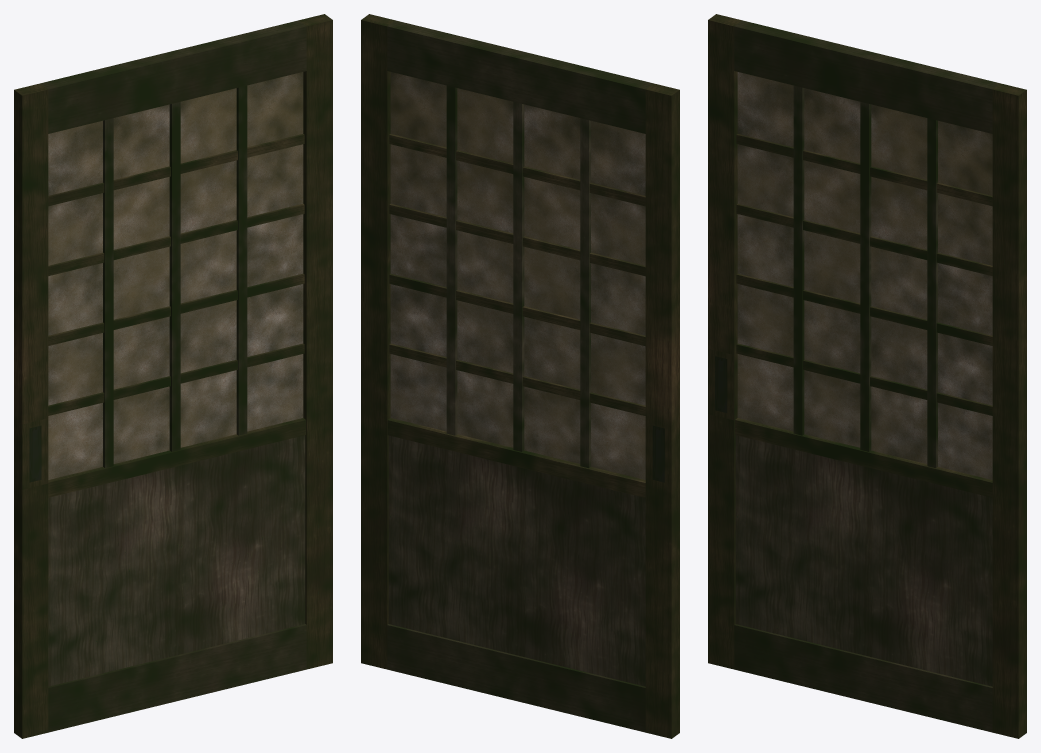
File: shrine_door_01.fbx
3 renders of one model, left to right at view 1: azimuth 30°, elevation 25°; view 2: azimuth 150°, elevation 25°; view 3: azimuth 330°, elevation 25°, orthographic.
Parts seen in each view (by area): view 1: shrine_door_01; view 2: shrine_door_01; view 3: shrine_door_01.
Boxes of the visible parts, box(x1,y1,x2,y2) form: shrine_door_01: box(14, 14, 332, 738); shrine_door_01: box(361, 14, 679, 738); shrine_door_01: box(708, 14, 1026, 738).
Bounding box in the file's own units: 143 × 284 × 6.59.
Materials: 1 (1 with a texture image).
